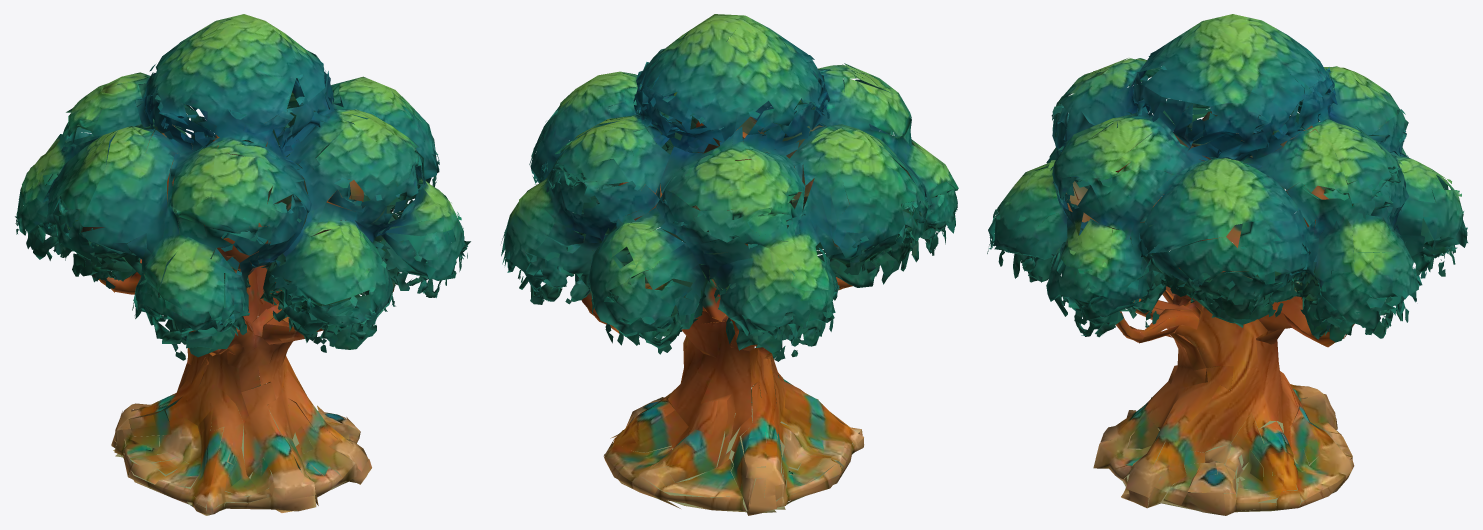
File: 07-garden-emerald-canopy-tree.glb
3 renders of one model, left to right at view 1: azimuth 30°, elevation 25°; view 2: azimuth 150°, elevation 25°; view 3: azimuth 270°, elevation 25°, orthographic.
Parts seen in each view (by area): view 1: tripo_node_bf8956ab; view 2: tripo_node_bf8956ab; view 3: tripo_node_bf8956ab.
Part boxes in pixels (<box>): tripo_node_bf8956ab: <box>15,14,470,515</box>; tripo_node_bf8956ab: <box>501,14,958,515</box>; tripo_node_bf8956ab: <box>987,14,1467,515</box>.
Size of the model in its own units: 1.07 by 1.2 by 1.17.
Materials: 1 (1 with a texture image).
